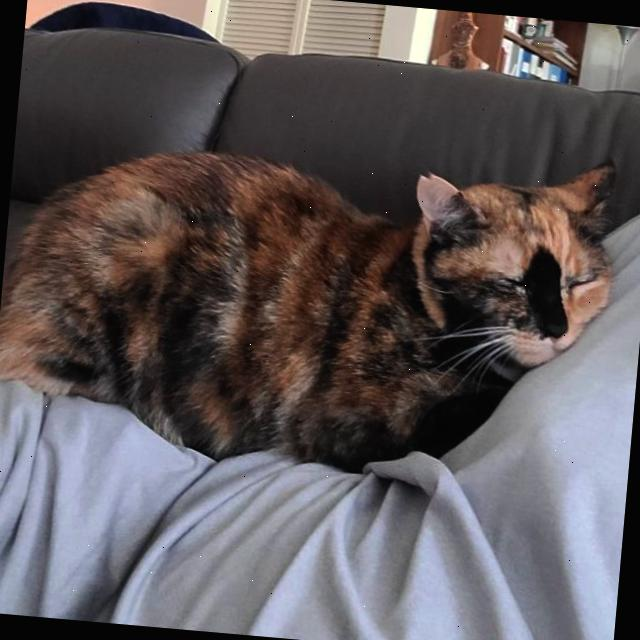calico_cat: (376, 126, 634, 413)
